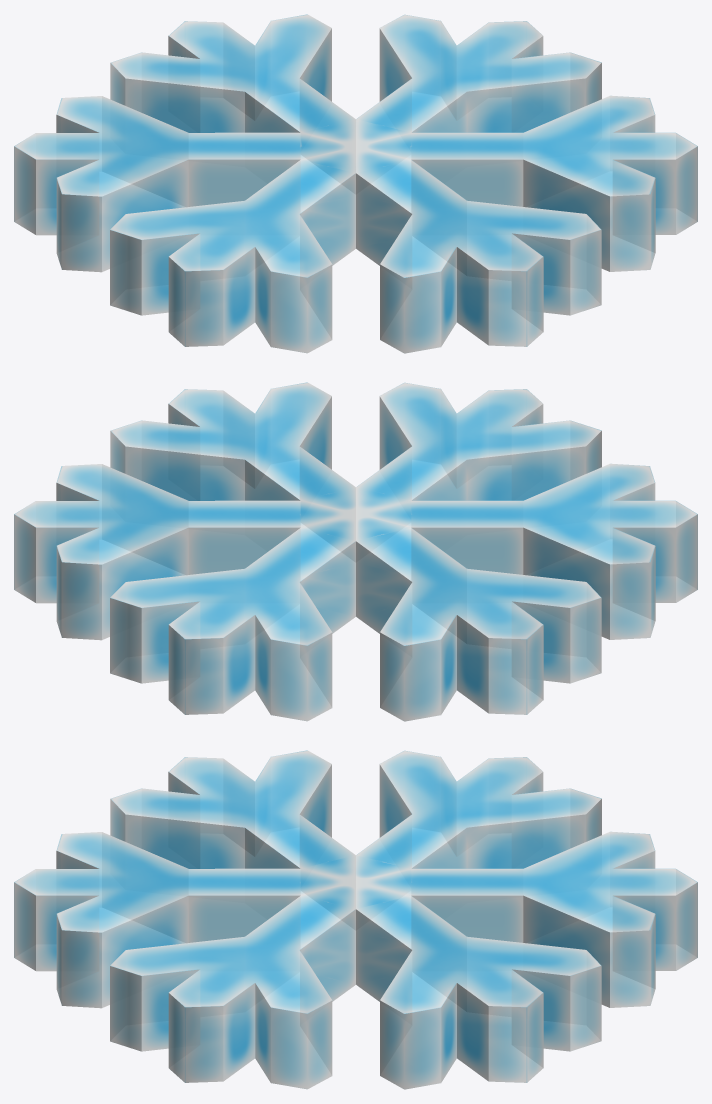
File: item_snow.FBX
3 renders of one model, top to bottom at view 1: azimuth 30°, elevation 25°; view 2: azimuth 150°, elevation 25°; view 3: azimuth 270°, elevation 25°, orthographic.
Parts seen in each view (by area): view 1: snow; view 2: snow; view 3: snow.
Part boxes in pixels (x1,y1,x2,y2): snow: (14,14,697,353); snow: (14,382,697,721); snow: (14,750,697,1089).
Bounding box in the file's own units: 0.3632 × 0.0485 × 0.398.
